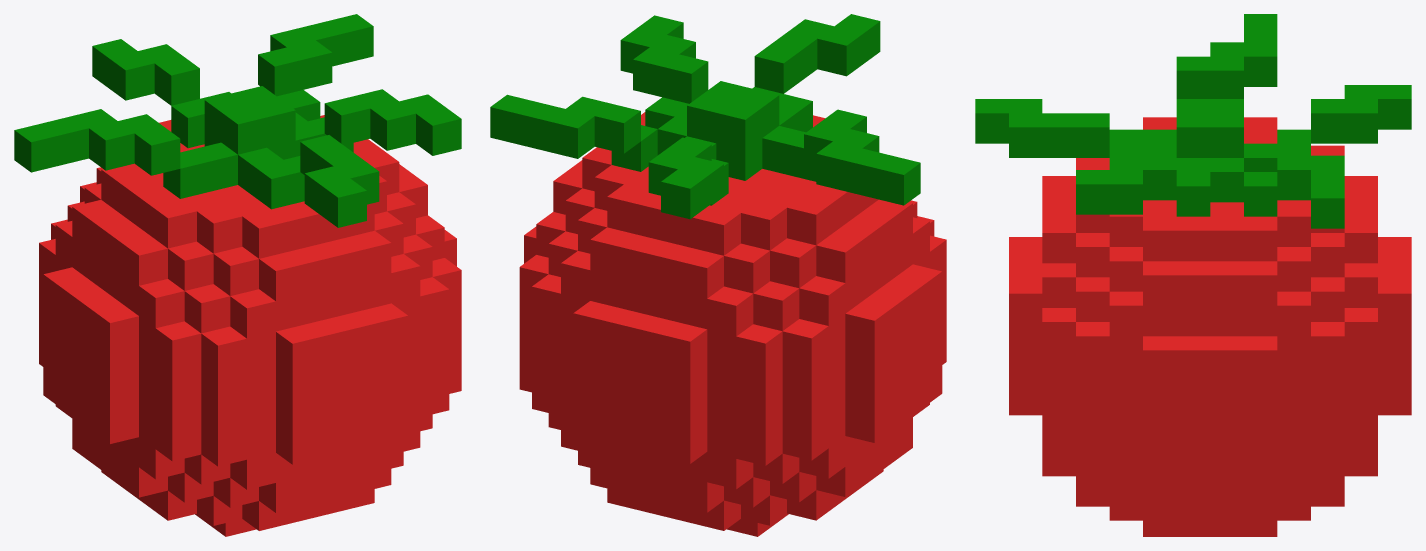
File: Tomato.fbx
3 renders of one model, left to right at view 1: azimuth 30°, elevation 25°; view 2: azimuth 150°, elevation 25°; view 3: azimuth 270°, elevation 25°, orthographic.
Parts seen in each view (by area): view 1: Tomato:Mesh; view 2: Tomato:Mesh; view 3: Tomato:Mesh.
Part boxes in pixels (left/top/right/bottom): Tomato:Mesh: left=14, top=14, right=461, bottom=536; Tomato:Mesh: left=490, top=14, right=946, bottom=536; Tomato:Mesh: left=975, top=14, right=1411, bottom=536.
Size of the model in its own units: 65.1 by 65.1 by 65.1.
